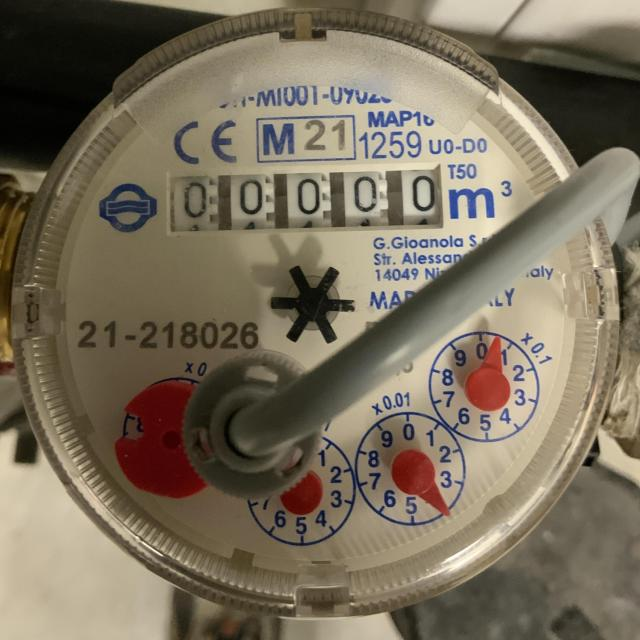gaz_meter: (40, 29, 615, 619)
indication: (164, 169, 441, 232)
